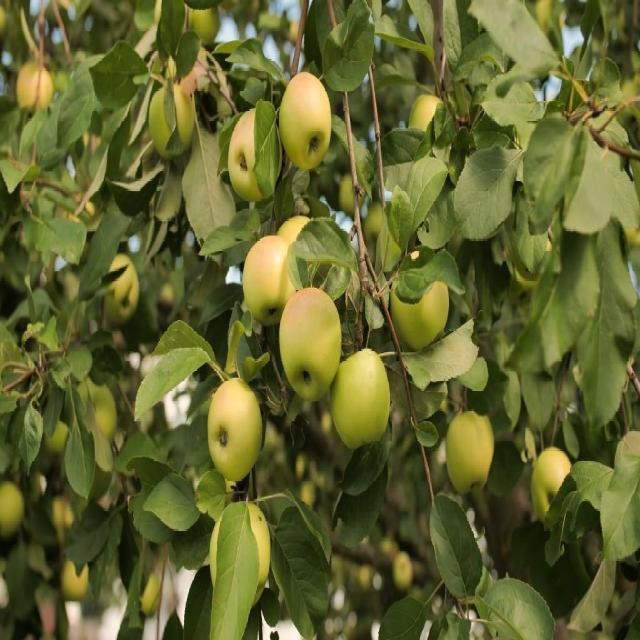Green Apple: (279, 282, 339, 390), (219, 498, 272, 608), (336, 347, 386, 460), (282, 76, 335, 171), (209, 378, 259, 470), (398, 263, 450, 346), (446, 413, 499, 491), (243, 240, 291, 316), (232, 103, 272, 192), (74, 366, 120, 442), (532, 447, 577, 521), (152, 85, 193, 150), (280, 218, 317, 286), (108, 256, 139, 321), (22, 58, 53, 113), (187, 1, 216, 49), (1, 477, 25, 534), (417, 94, 445, 140), (140, 569, 165, 613), (369, 198, 391, 244), (45, 419, 71, 457), (343, 174, 368, 211), (58, 500, 76, 547), (69, 565, 90, 604), (394, 556, 413, 590)
